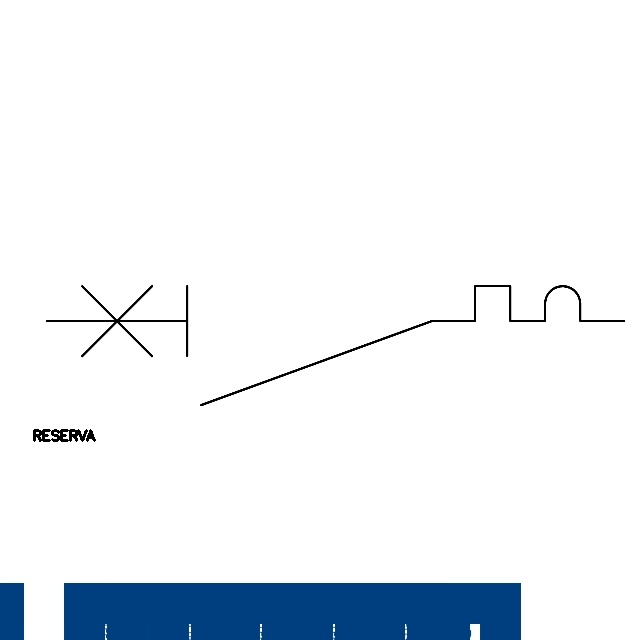interruptor_termomagnetico: (32, 271, 639, 419)
